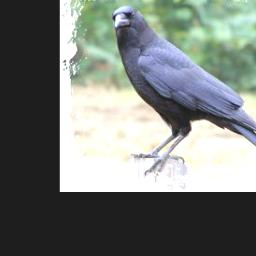Crow: (107, 4, 256, 179)
